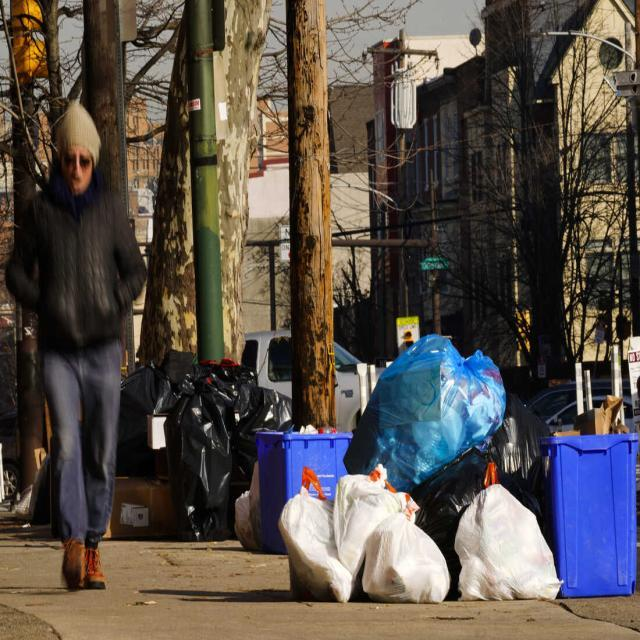high trash: (279, 335, 560, 602), (106, 361, 290, 540)
